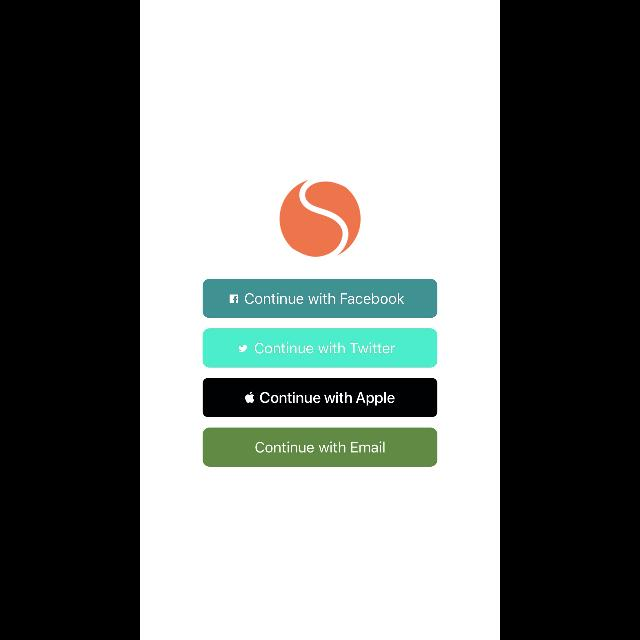image: (280, 180, 360, 258)
textbutton: (203, 278, 437, 318), (203, 328, 437, 368), (203, 378, 437, 418), (203, 428, 437, 467)
